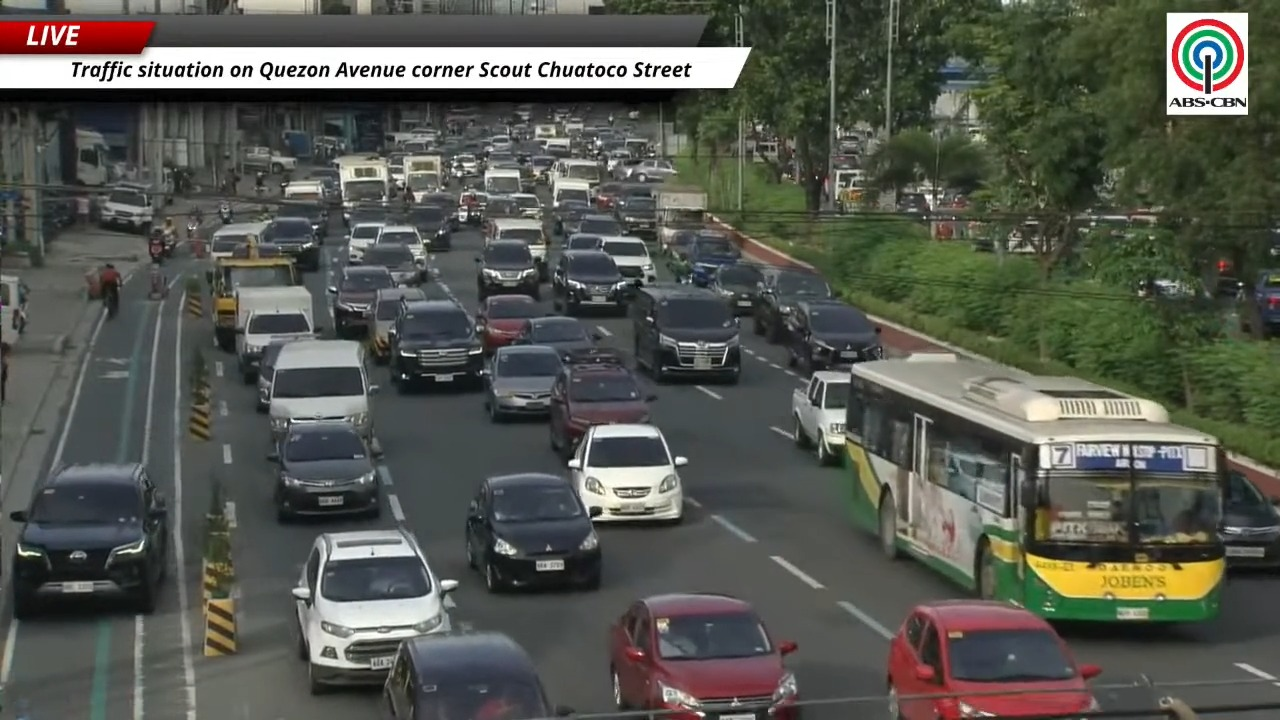bus: (842, 353, 1227, 622)
car: (291, 528, 457, 693), (887, 600, 1100, 719), (9, 463, 169, 619), (609, 593, 799, 719), (383, 631, 572, 719), (465, 473, 602, 592), (568, 424, 687, 522), (268, 421, 379, 521), (629, 284, 741, 383), (549, 358, 655, 460), (390, 300, 482, 392), (781, 299, 883, 373), (752, 267, 832, 343), (484, 345, 561, 422), (1219, 472, 1279, 568), (551, 250, 630, 315), (327, 265, 396, 338), (369, 287, 426, 364), (476, 294, 544, 352), (476, 240, 540, 301), (511, 316, 599, 358), (676, 230, 740, 286), (708, 262, 763, 315), (401, 197, 454, 250), (270, 216, 320, 272), (600, 236, 656, 284), (256, 340, 292, 413), (414, 192, 460, 249), (362, 244, 425, 285), (375, 224, 427, 269), (275, 200, 328, 244), (347, 211, 385, 264), (616, 194, 655, 237), (660, 229, 697, 272), (553, 199, 592, 234), (626, 158, 677, 182), (458, 190, 488, 226), (576, 214, 624, 236), (511, 193, 543, 221), (562, 233, 603, 249)
motorcycle: (103, 285, 118, 318), (148, 237, 166, 263), (161, 228, 177, 257), (219, 202, 233, 224), (186, 219, 199, 238)
truck: (235, 286, 314, 383), (791, 371, 849, 464), (667, 229, 740, 286), (336, 155, 390, 223), (654, 186, 707, 247), (99, 182, 161, 234), (75, 127, 110, 186), (403, 154, 444, 194), (242, 146, 297, 173), (483, 168, 521, 195), (535, 124, 558, 139)
